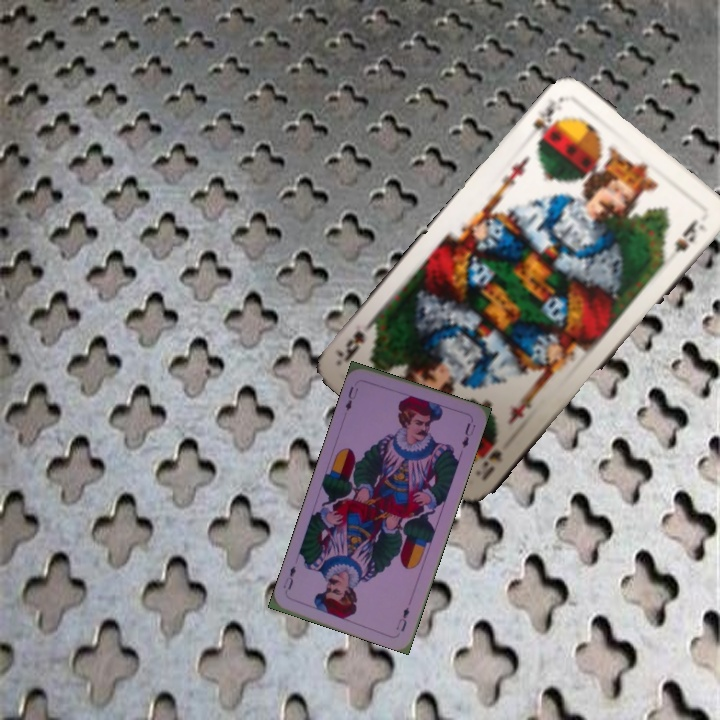EU: (341, 382, 361, 413), (392, 603, 412, 634)
SK: (528, 100, 562, 148), (471, 445, 505, 484)
